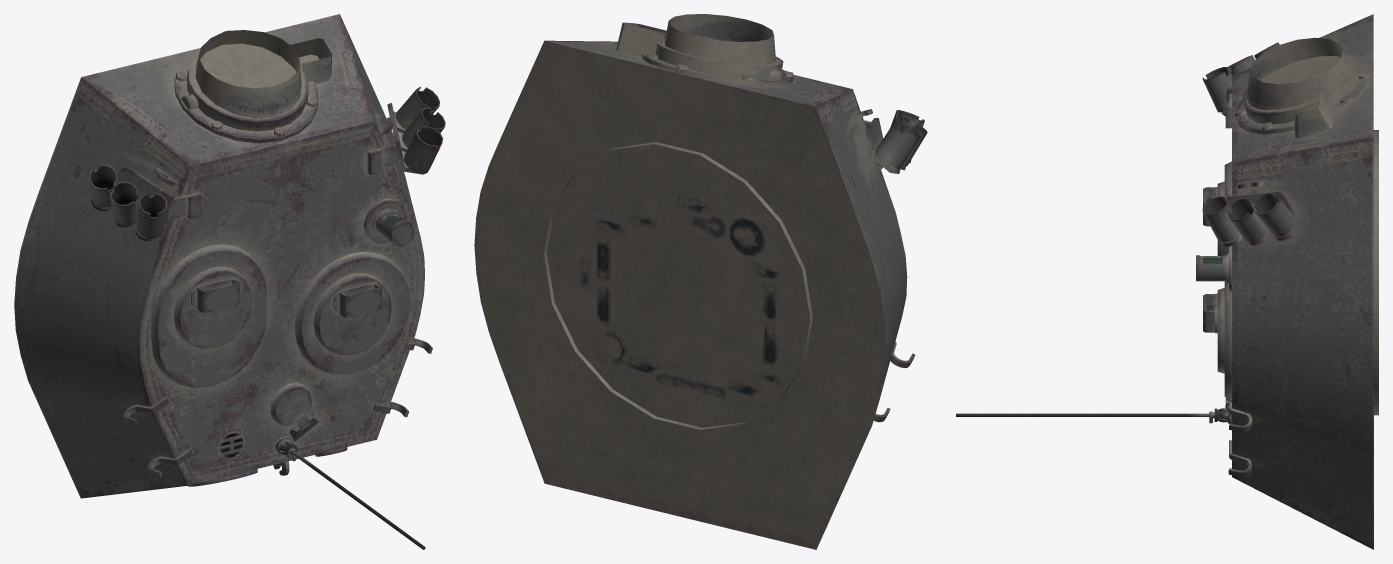
File: Turret_01.glb
3 renders of one model, left to right at view 1: azimuth 30°, elevation 25°; view 2: azimuth 150°, elevation 25°; view 3: azimuth 270°, elevation 25°, orthographic. The views are drawn at different scales.
Parts seen in each view (by area): view 1: set_0_group_0; view 2: set_0_group_0; view 3: set_0_group_0.
Boxes of the visible parts, box(x1,y1,x2,y2) form: set_0_group_0: box(14, 14, 445, 549); set_0_group_0: box(474, 14, 927, 549); set_0_group_0: box(956, 14, 1378, 549).
Size of the model in its own units: 1.72 by 1.87 by 1.64.
1 material, 1 textured.
